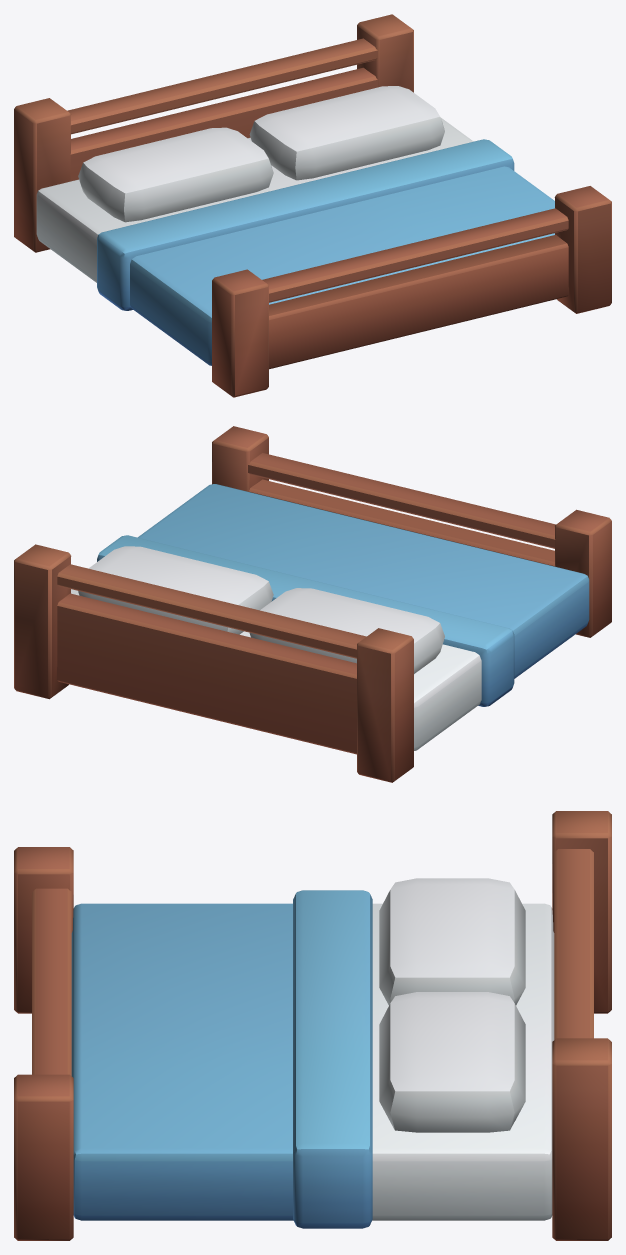
File: kay-cama-casal-b.gltf
3 renders of one model, top to bottom at view 1: azimuth 30°, elevation 25°; view 2: azimuth 150°, elevation 25°; view 3: azimuth 270°, elevation 25°, orthographic. The views are drawn at different scales.
Parts seen in each view (by area): view 1: bed_double_B; view 2: bed_double_B; view 3: bed_double_B.
Part boxes in pixels (<box>): bed_double_B: <box>14,14,611,397</box>; bed_double_B: <box>14,426,611,782</box>; bed_double_B: <box>14,811,611,1240</box>.
Bounding box in the file's own units: 2.02 × 0.6499 × 1.95.
1 material, 1 textured.
